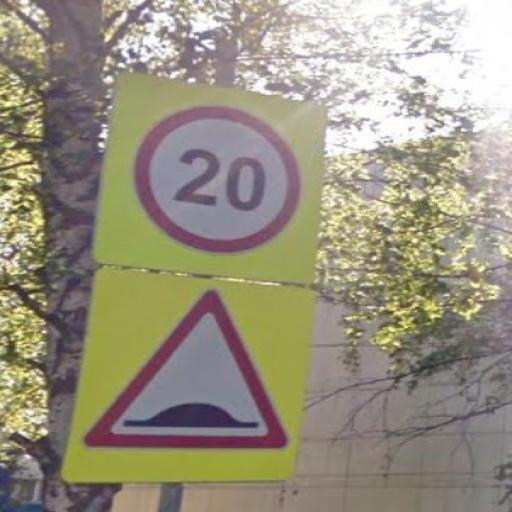traffic_sign: (83, 287, 290, 453), (132, 105, 305, 256)
